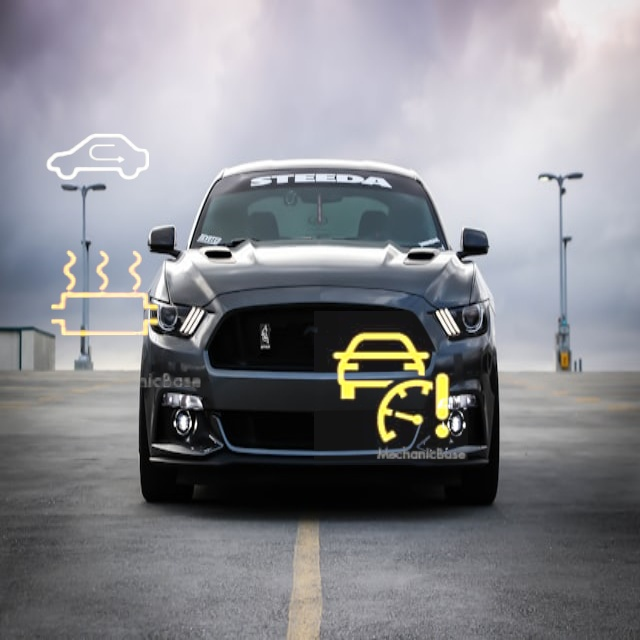symbol: (1, 190, 209, 398), (314, 311, 468, 465), (30, 90, 167, 227)
